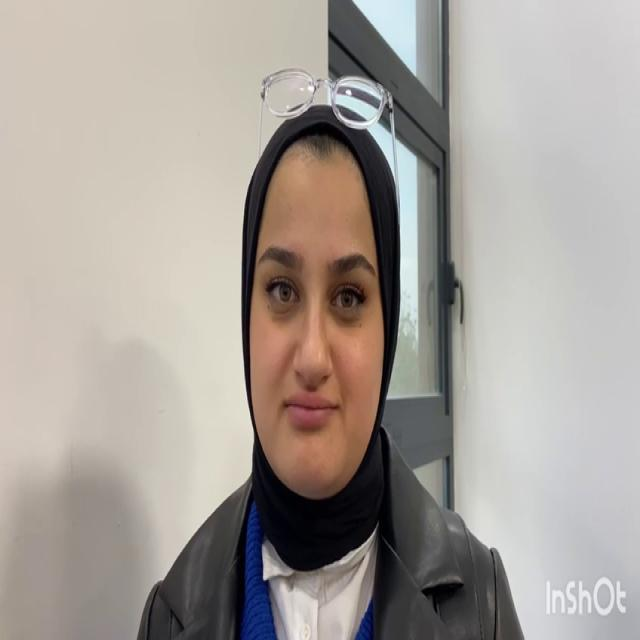happy: (246, 149, 385, 501)
